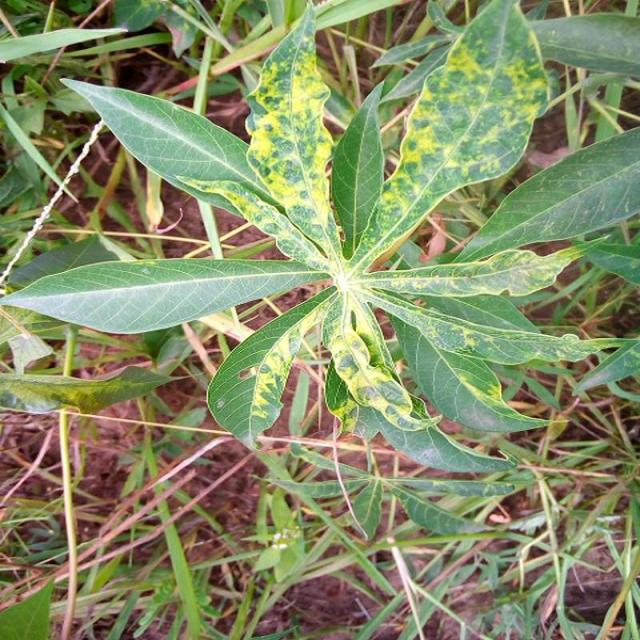cassava leaf: (1, 1, 636, 478), (355, 0, 556, 269)
